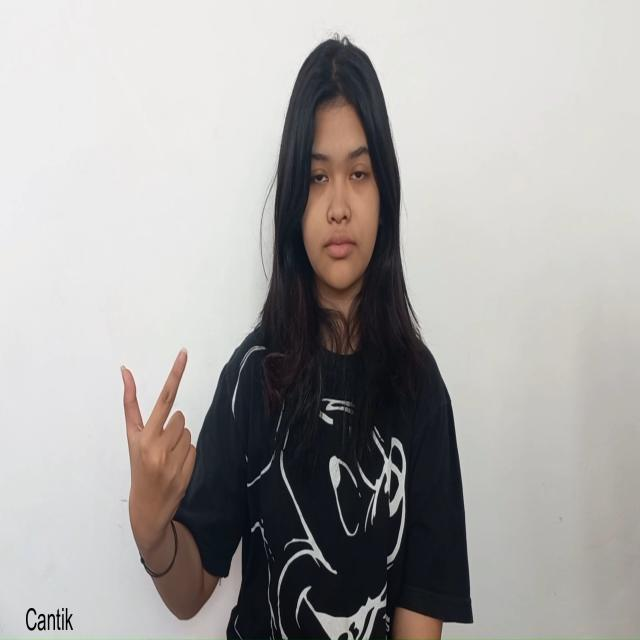Cantik -BISINDO-: (119, 345, 198, 562)
